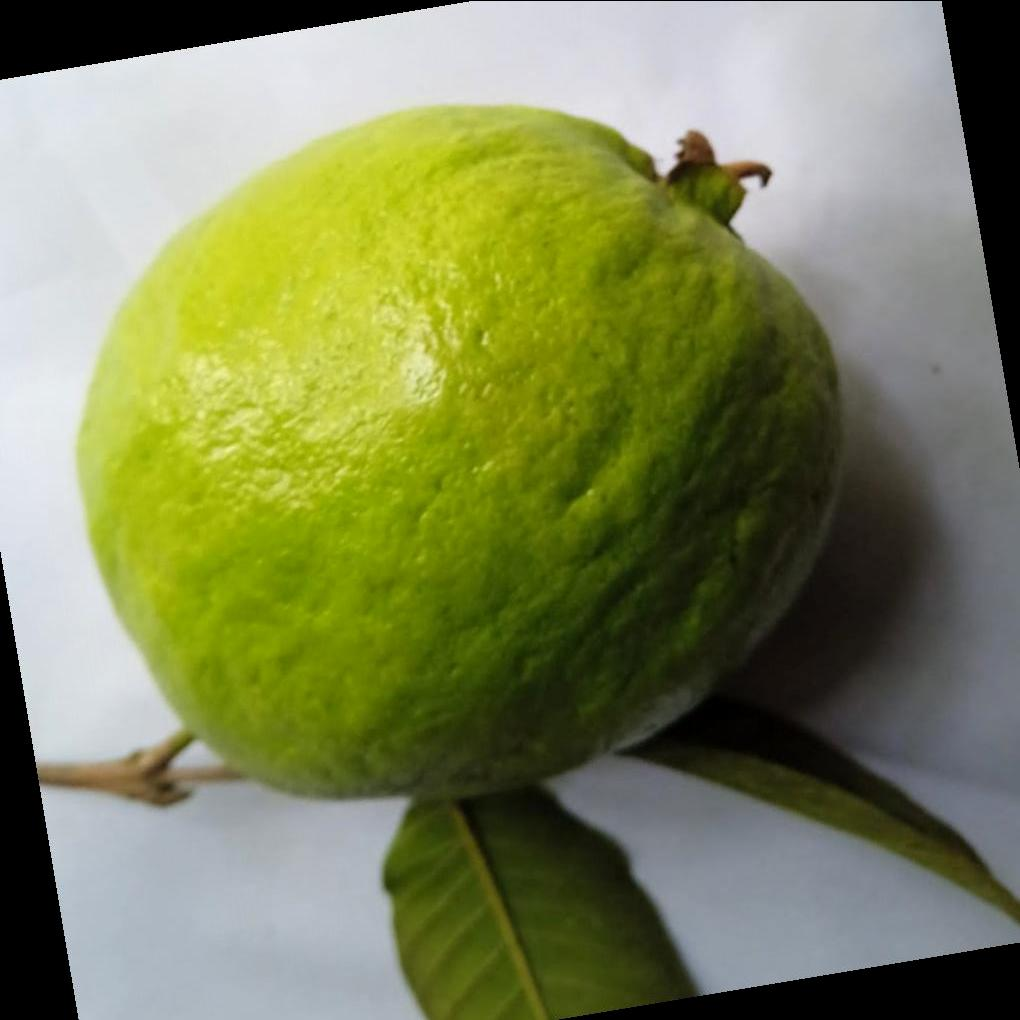FreshGuava: (75, 102, 850, 804)
